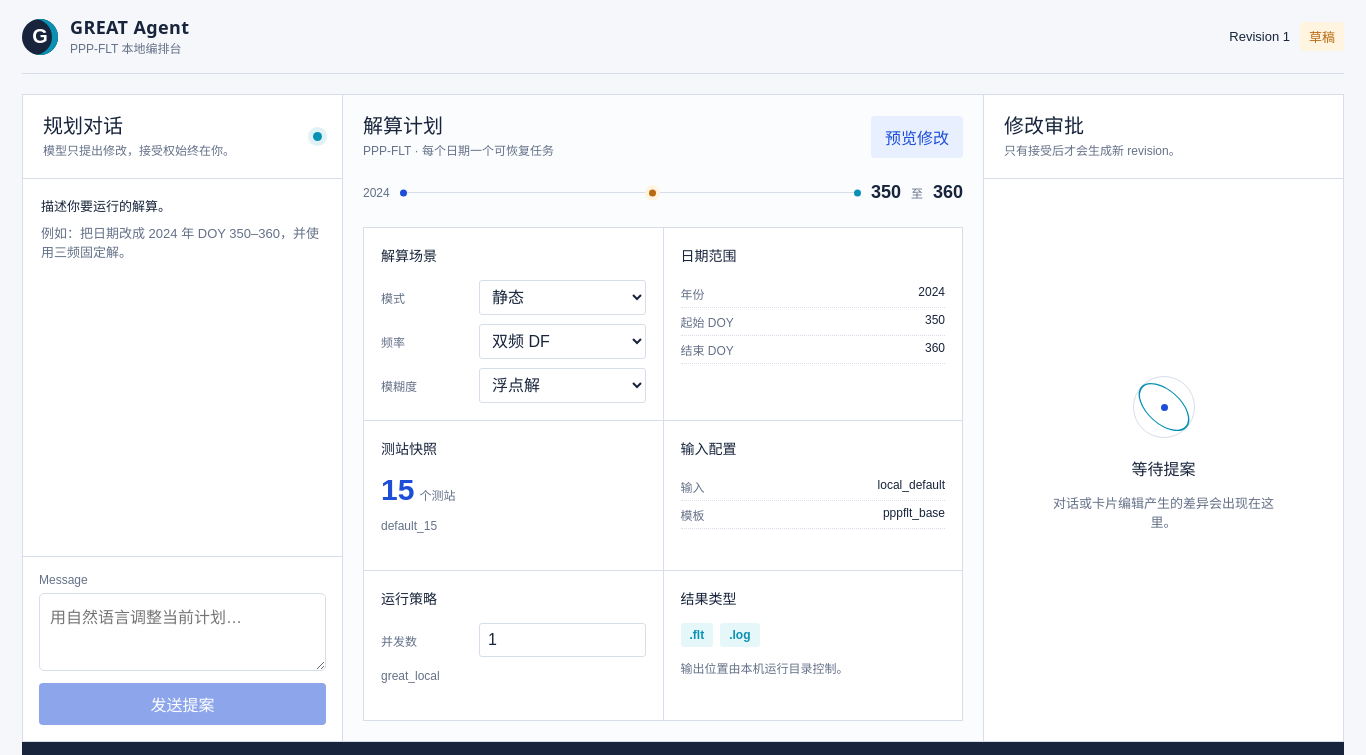
Test case: ExperimentWorkspace › previews chat changes before accepting a revision
Expected: the text "Revision 1" is shown, [1229,29,1290,44]
Step 1. Type "改成三频" into the text box labelled "Message" → x=182, y=632, box [39,593,326,671]
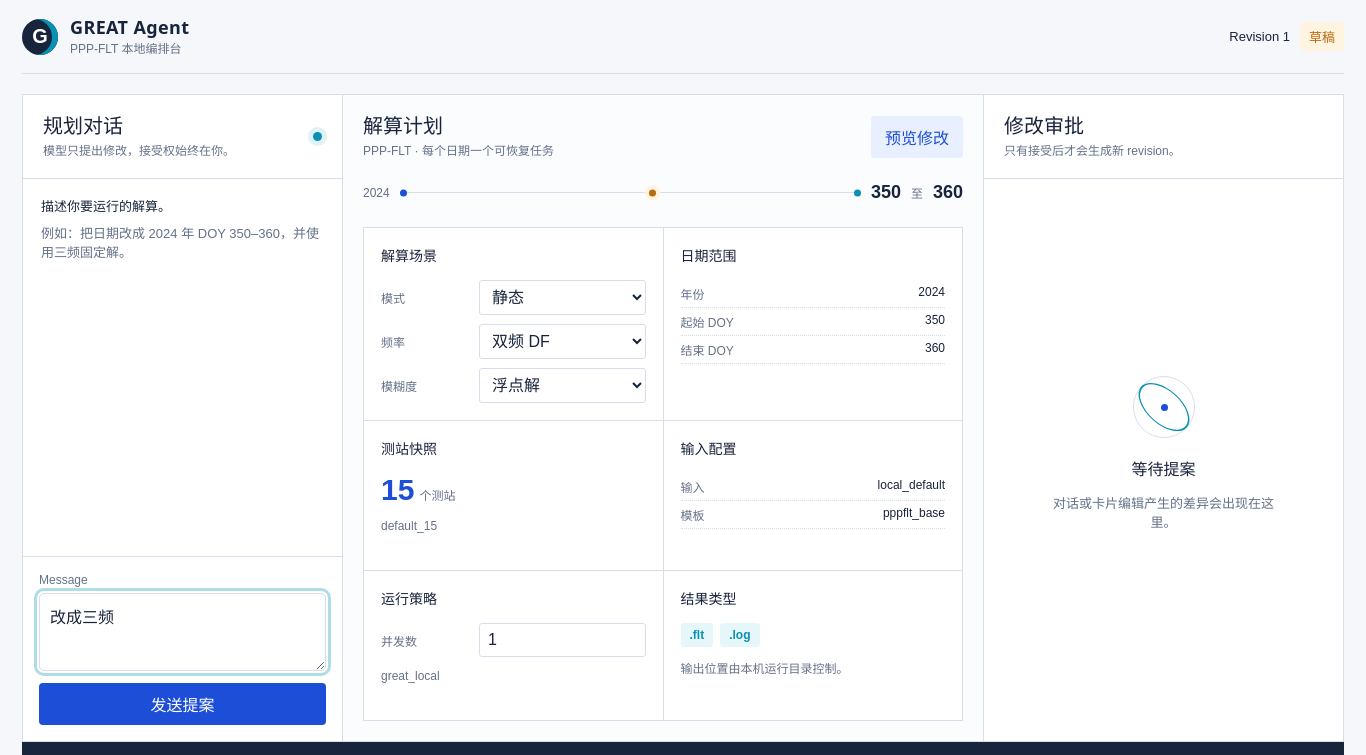
Step 2. Click the button "发送提案" → x=182, y=704, box [39,683,326,725]
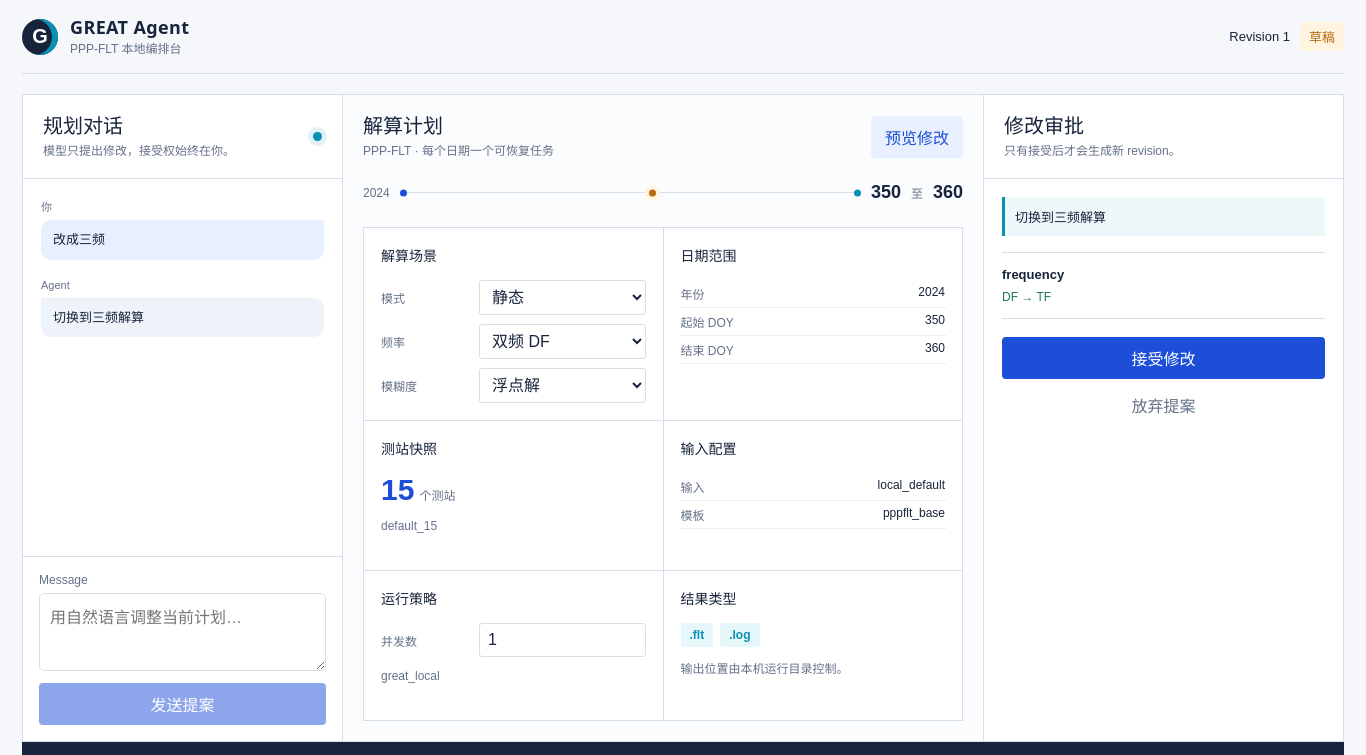
Result: the heading "frequency" is shown at [1002,267,1064,282]
Result: the text "DF → TF" is shown at [1002,290,1051,304]
